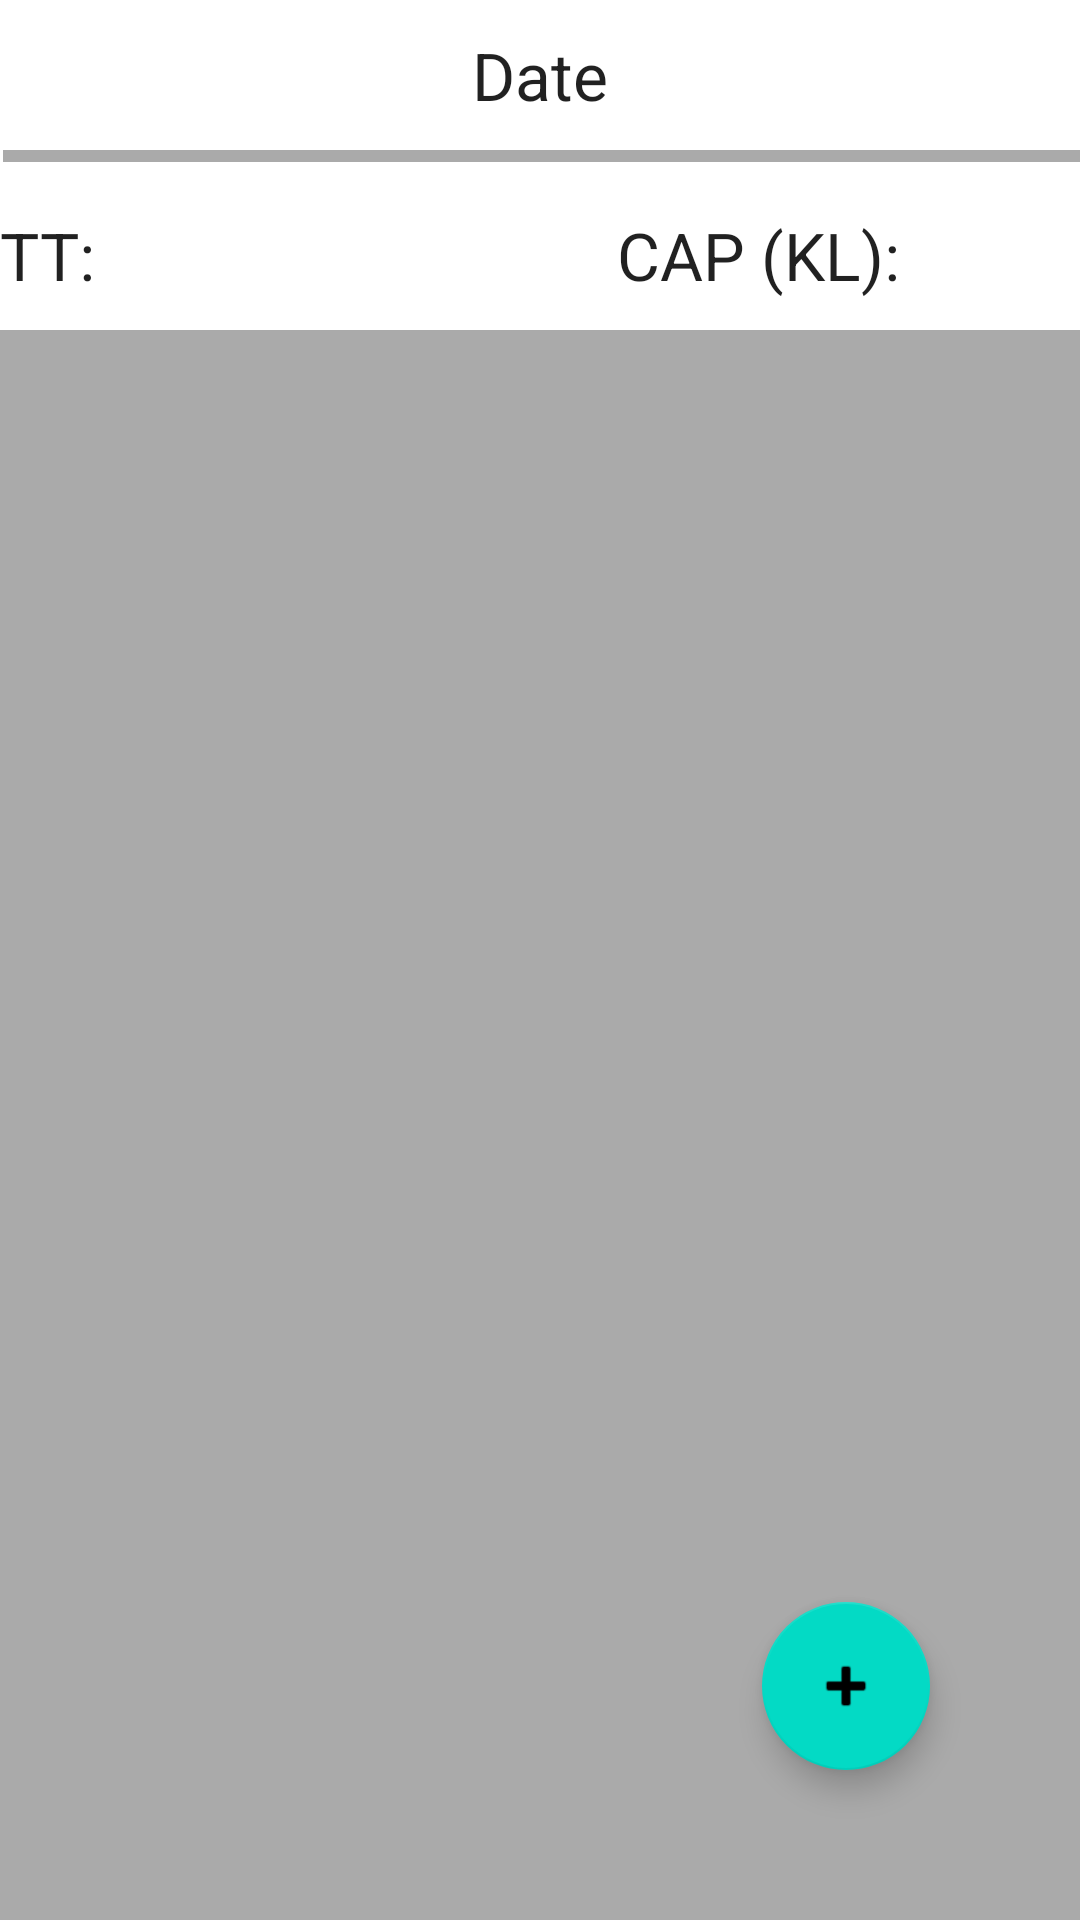

Icon bounding boxes for this 1080*1920 phone screenshot, format (x1, y1, x2, y2):
add: (762, 1602, 930, 1770)
